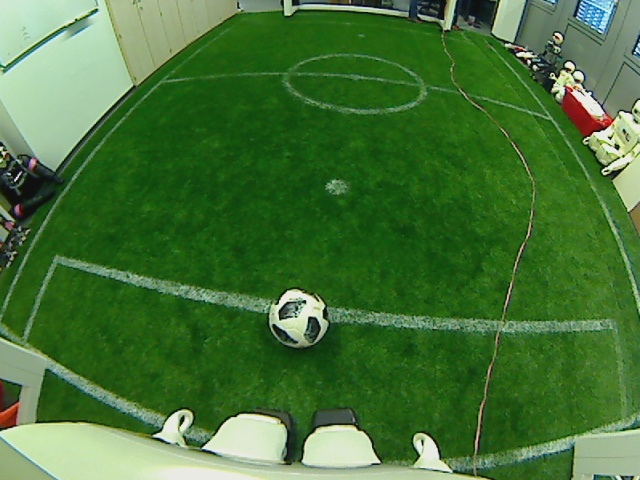ball: (268, 288, 331, 350)
